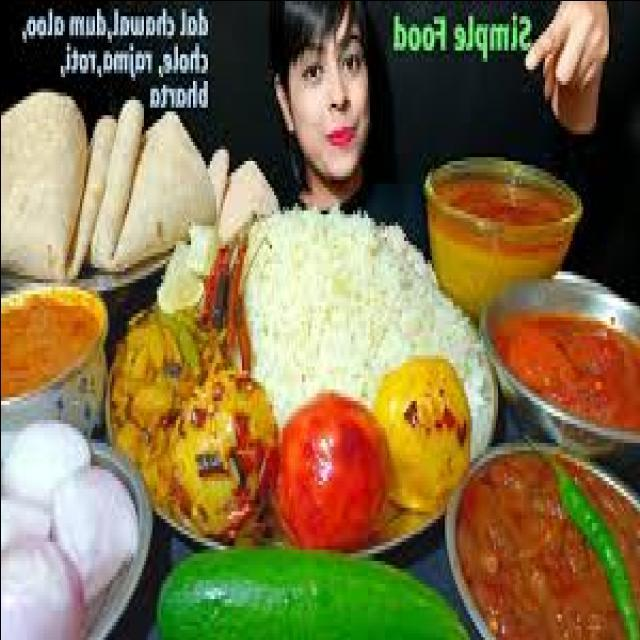pickle: (271, 11, 376, 199)
rice: (254, 200, 433, 396)
sambar-rasam: (482, 289, 640, 451), (426, 142, 584, 273)
veg-fry: (262, 379, 413, 563)
